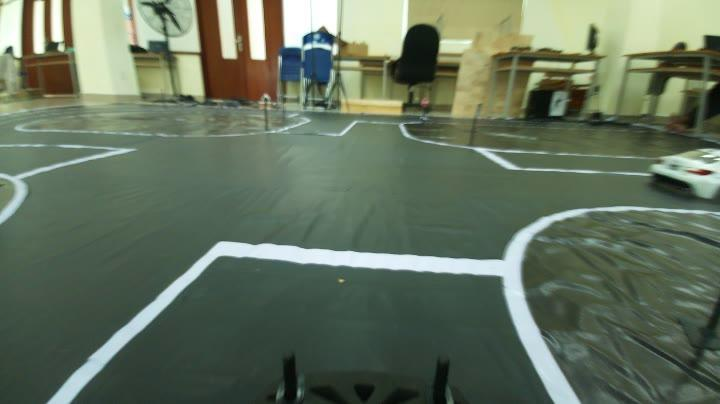car: (642, 144, 720, 199)
